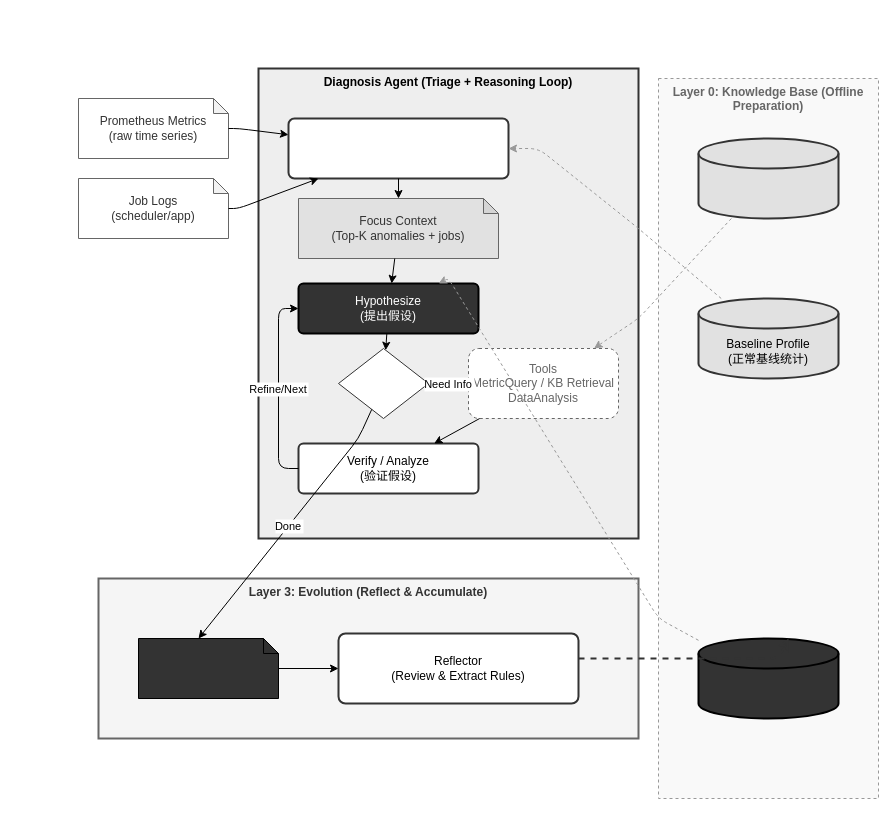
Image size: 896x816. Some labels were removed from this diagram. The shapes that lost their labels are listed below. From the top down, each one's centre as x and y in pixels, then its label:
At (398,148): "Triage (Deterministic) 异常检测/作业关联/降噪".
At (768,178): "Metric KB (指标语义/范围)".
At (383,383): "Confident?".
At (208,668): "Final Diagnosis Report".
At (768,678): "Fault Pattern Library (故障模式规则集)".
